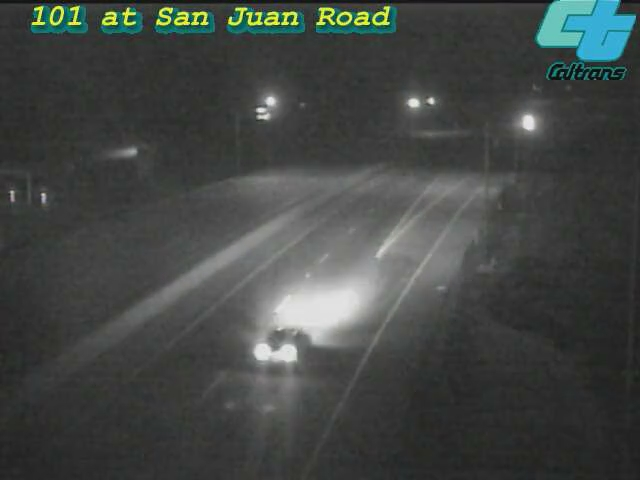vehicle: (227, 288, 337, 398), (504, 97, 554, 147)
